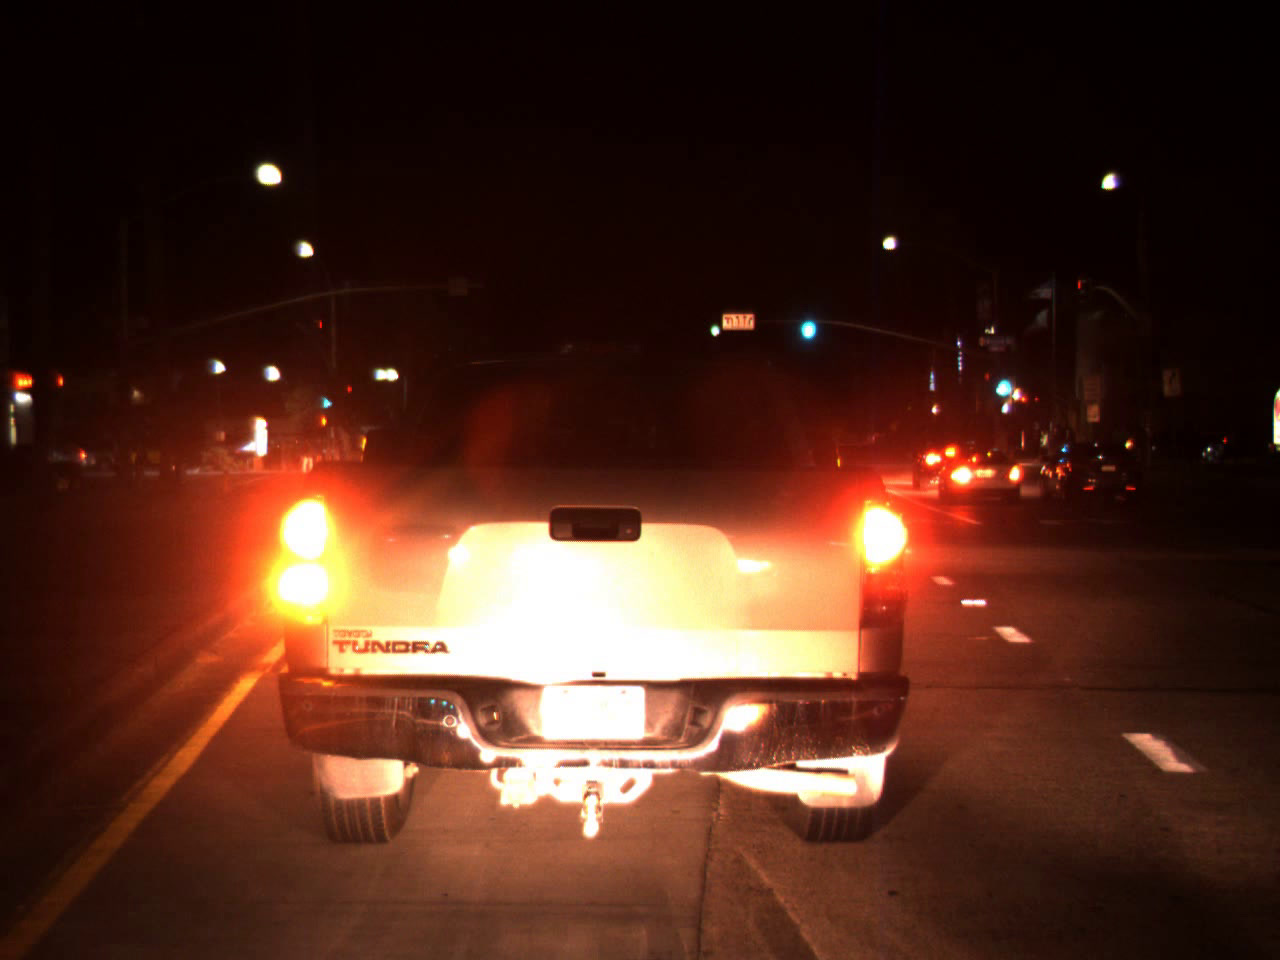go: (988, 358, 1015, 403), (795, 298, 818, 346), (707, 314, 721, 338), (321, 389, 334, 410)
